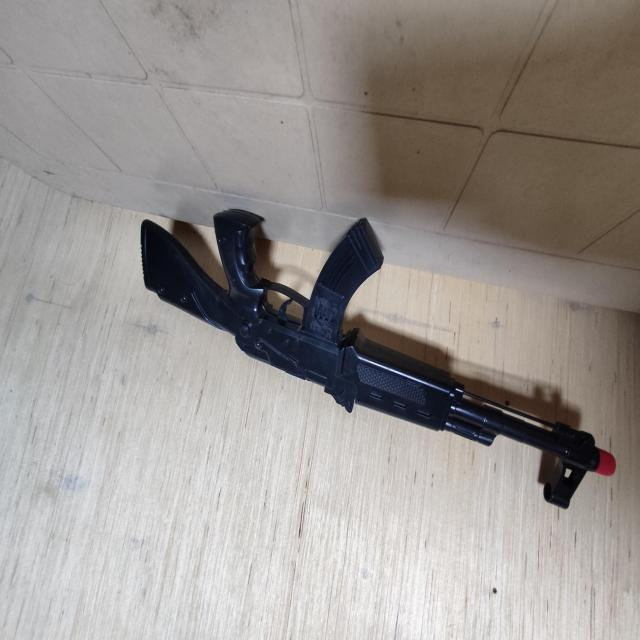rifle: (140, 210, 617, 510)
